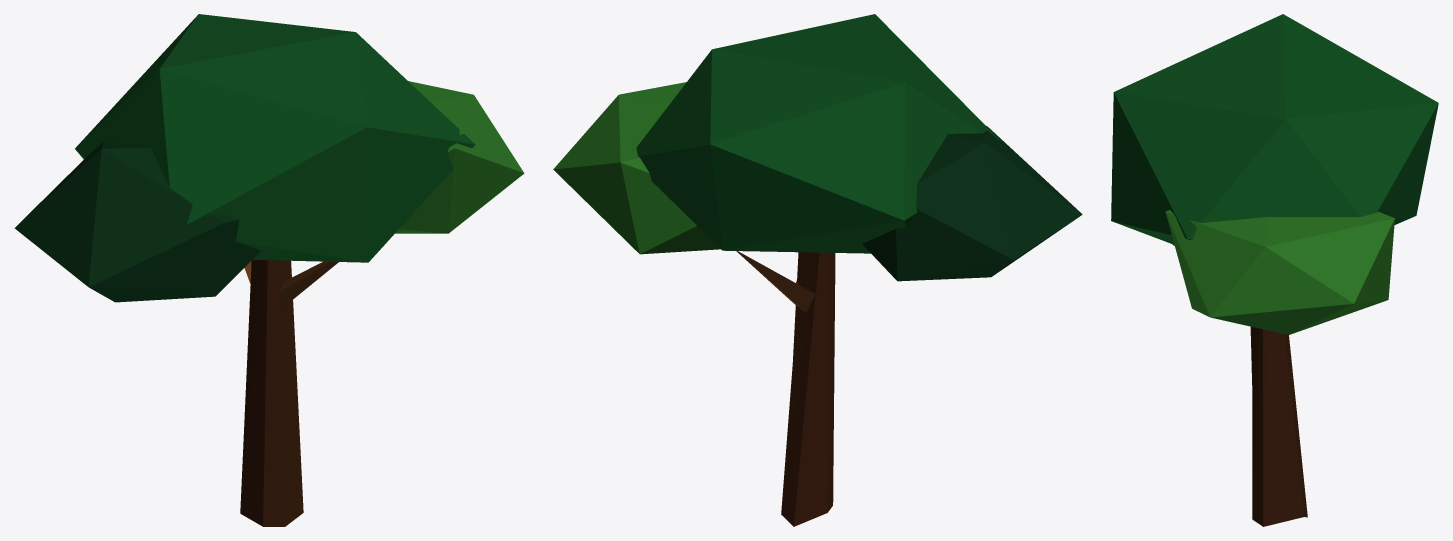
Rendered from world_tree_canopy_m.fbx.
3 renders of one model, left to right at view 1: azimuth 30°, elevation 25°; view 2: azimuth 150°, elevation 25°; view 3: azimuth 270°, elevation 25°, orthographic. The views are drawn at different scales.
Visible parts, largest first — view 1: world_tree_canopy_m; view 2: world_tree_canopy_m; view 3: world_tree_canopy_m.
Part boxes in pixels (bbox=[...]): world_tree_canopy_m: bbox=[14, 14, 524, 526]; world_tree_canopy_m: bbox=[553, 14, 1082, 526]; world_tree_canopy_m: bbox=[1111, 14, 1438, 526].
Size of the model in its own units: 1316 by 1310 by 854.
